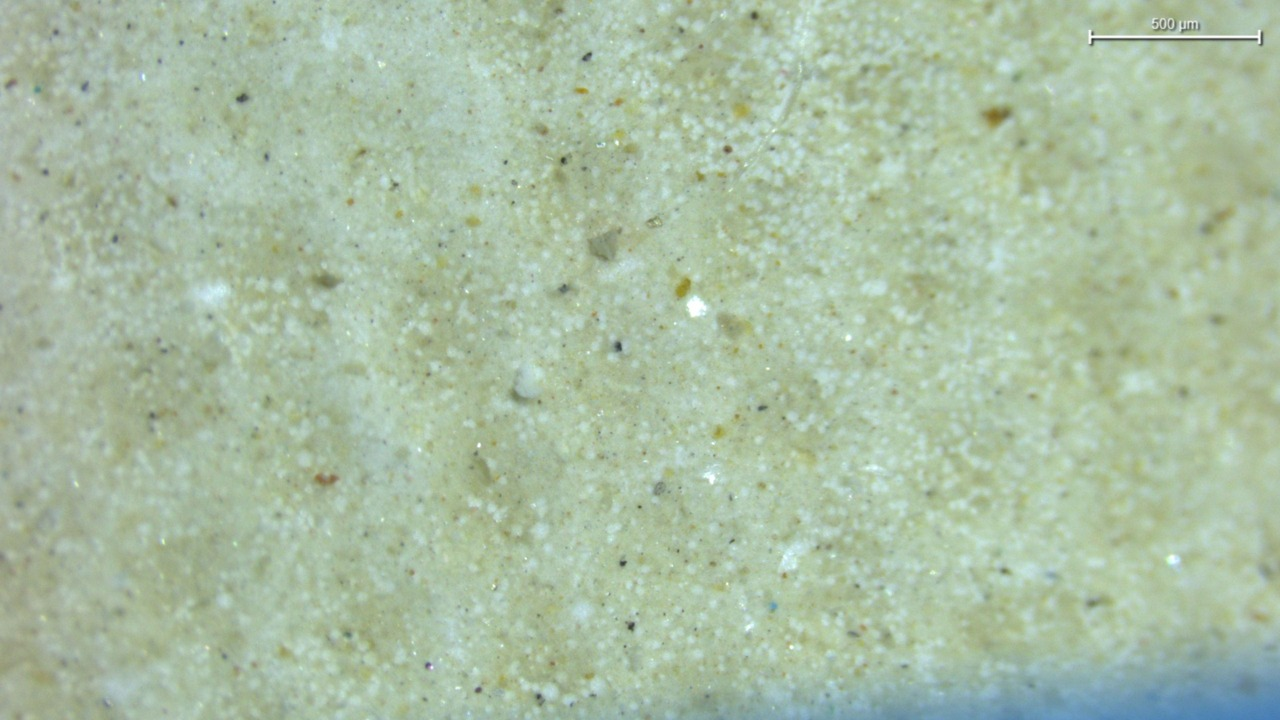microplastic_fragment: (513, 363, 543, 401), (588, 227, 621, 260)
